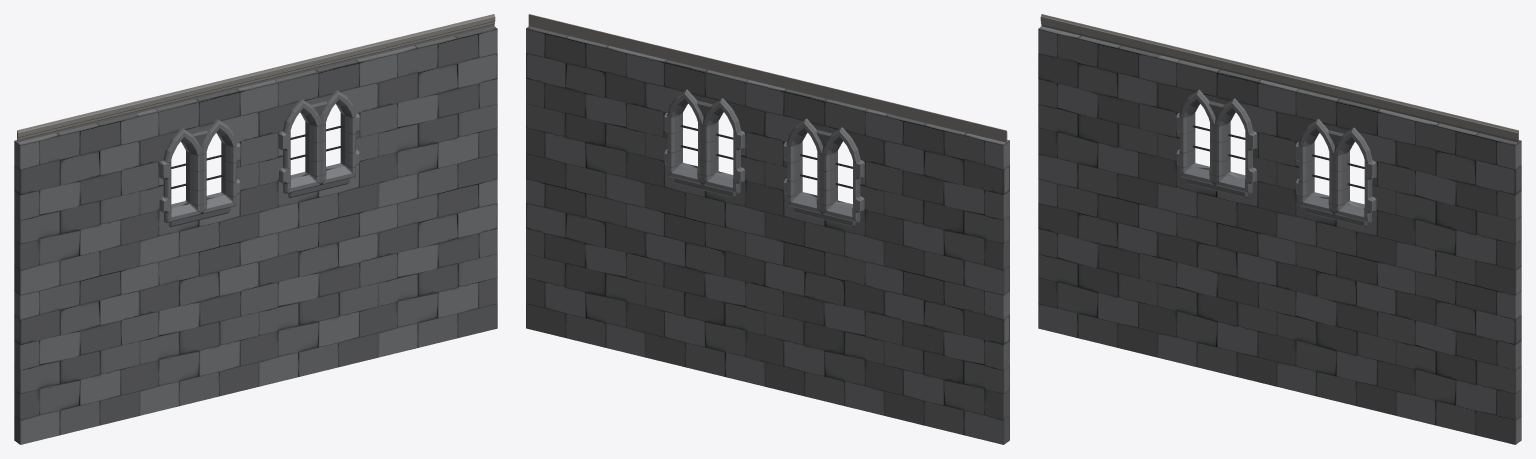
The model's file is crypt_wall_b.gltf.
3 renders of one model, left to right at view 1: azimuth 30°, elevation 25°; view 2: azimuth 150°, elevation 25°; view 3: azimuth 330°, elevation 25°, orthographic.
Parts seen in each view (by area): view 1: crypt_wall_b; view 2: crypt_wall_b; view 3: crypt_wall_b.
Boxes of the visible parts, left/top/right/bottom form: crypt_wall_b: left=14, top=14, right=497, bottom=444; crypt_wall_b: left=526, top=14, right=1009, bottom=444; crypt_wall_b: left=1038, top=14, right=1521, bottom=444.
Size of the model in its own units: 10 by 6.24 by 0.4164.
2 materials, 2 textured.
